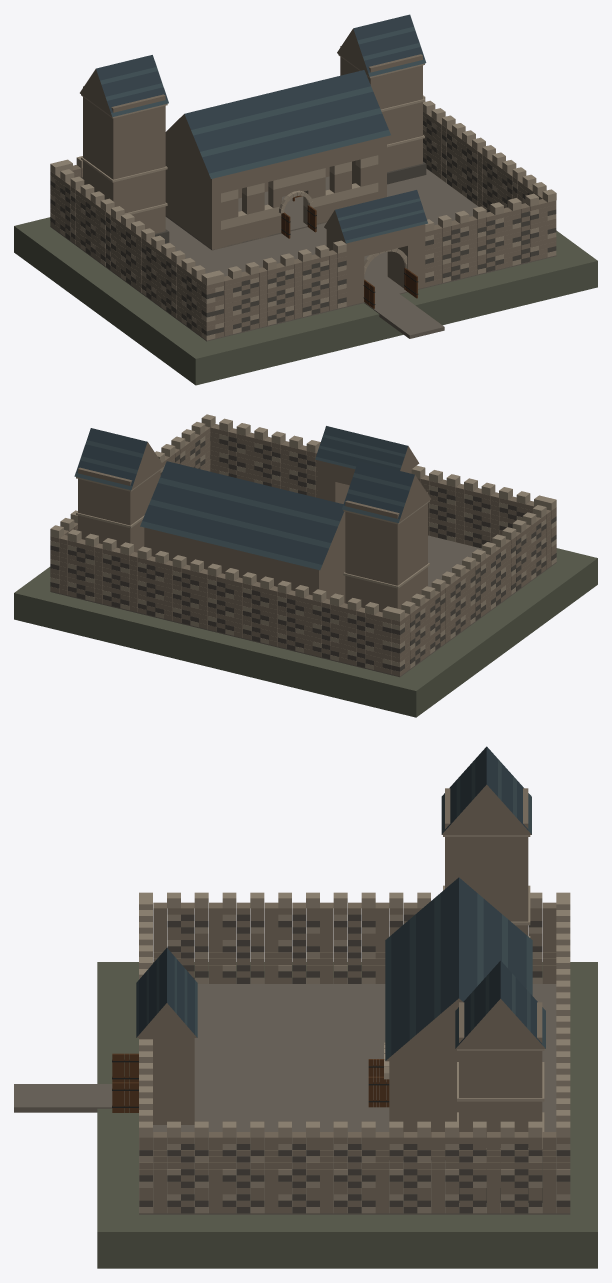
The model's file is Hoehenburg.obj.
The picture shows the model from 3 angles, top to bottom: view 1: azimuth 30°, elevation 25°; view 2: azimuth 150°, elevation 25°; view 3: azimuth 270°, elevation 25°; orthographic projection. The views are drawn at different scales.
Parts seen in each view (by area): view 1: Felsplateau, Turmwand, Palas_Hofwand, Westmauer, Hofpflaster, Suedmauer_West, Suedmauer_Ost, Ostmauer, Palas_Giebelwand, Torhaus_Wange, Westmauer_merlon, Ostmauer_merlon (+32 smaller); view 2: Felsplateau, Nordmauer, Turmwand, Westmauer, Suedmauer_Ost, Suedmauer_West, Palas_Rueckwand, Nordmauer_merlon, Westmauer_merlon, Hofpflaster, Ostmauer, Palas_Giebelwand (+31 smaller); view 3: Felsplateau, Ostmauer, Hofpflaster, Westmauer, Turmwand, Turm_Dach_gable, Palas_Giebelwand, Ostmauer_merlon, Torhaus_Wange, Nordmauer_merlon, Westmauer_merlon, Zufahrt (+22 smaller).
Boxes of the visible parts, box(x1,y1,x2,y2) form: Felsplateau: box(14, 217, 597, 385); Turmwand: box(83, 46, 422, 233); Palas_Hofwand: box(221, 138, 378, 248); Westmauer: box(50, 171, 215, 340); Hofpflaster: box(50, 168, 556, 341); Suedmauer_West: box(215, 250, 346, 338); Suedmauer_Ost: box(425, 199, 547, 286); Ostmauer: box(423, 111, 556, 256); Palas_Giebelwand: box(165, 136, 386, 249); Torhaus_Wange: box(326, 224, 425, 306); Westmauer_merlon: box(50, 161, 215, 285); Ostmauer_merlon: box(423, 95, 556, 202); Felsplateau: box(14, 548, 597, 717); Nordmauer: box(59, 535, 391, 674); Turmwand: box(78, 459, 427, 612); Westmauer: box(391, 507, 556, 676); Suedmauer_Ost: box(210, 424, 317, 497); Suedmauer_West: box(417, 475, 534, 548); Palas_Rueckwand: box(153, 529, 310, 594); Nordmauer_merlon: box(67, 529, 395, 619); Westmauer_merlon: box(391, 497, 556, 621); Hofpflaster: box(50, 535, 556, 677); Ostmauer: box(50, 424, 214, 592); Palas_Giebelwand: box(144, 527, 345, 603); Felsplateau: box(97, 962, 597, 1268); Ostmauer: box(139, 1132, 570, 1213); Hofpflaster: box(139, 978, 570, 1214); Westmauer: box(153, 902, 556, 983); Turmwand: box(445, 788, 542, 1185); Turm_Dach_gable: box(442, 784, 545, 1048); Palas_Giebelwand: box(389, 1061, 458, 1158); Ostmauer_merlon: box(139, 1121, 570, 1137); Torhaus_Wange: box(139, 1038, 194, 1124); Nordmauer_merlon: box(556, 898, 570, 1121); Westmauer_merlon: box(139, 892, 570, 908); Zufahrt: box(14, 1084, 129, 1112).
Size of the model in its own units: 46 by 22.22 by 42.
